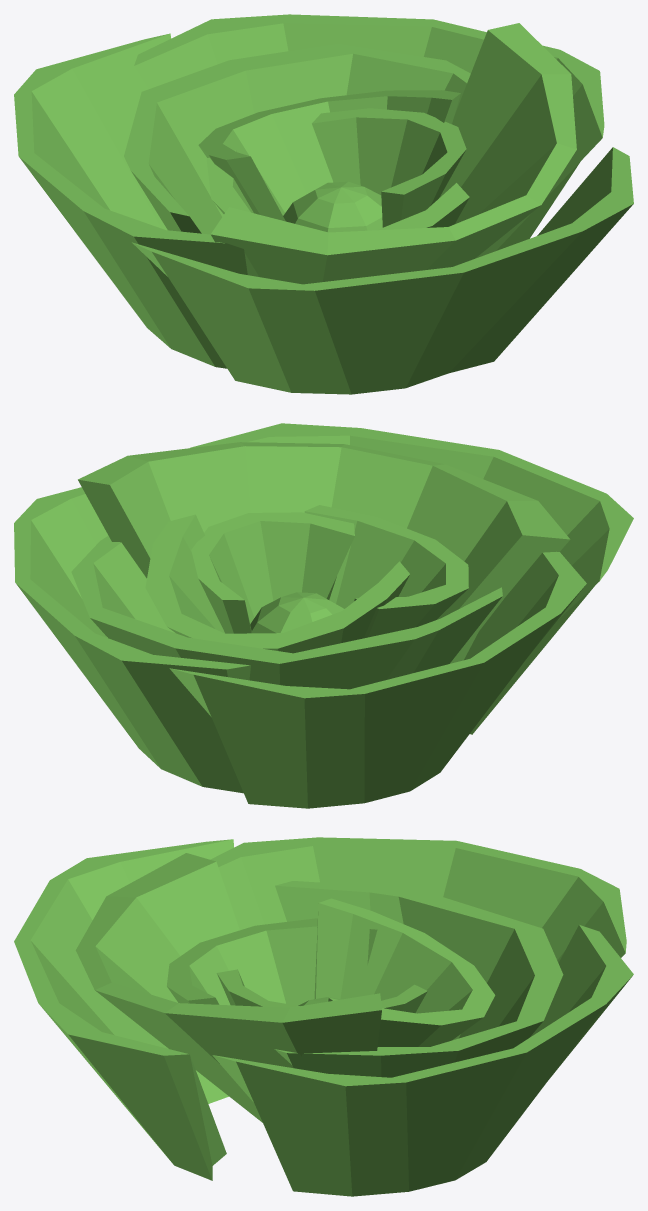
File: O_Clutter_VeggyCabbage_1.fbx
The picture shows the model from 3 angles, top to bottom: view 1: azimuth 30°, elevation 25°; view 2: azimuth 150°, elevation 25°; view 3: azimuth 270°, elevation 25°; orthographic projection. The views are drawn at different scales.
Parts seen in each view (by area): view 1: pCube18; view 2: pCube18; view 3: pCube18.
Boxes of the visible parts, x1,y1,x2,y2 form: pCube18: (14,14,633,394); pCube18: (14,423,633,808); pCube18: (14,837,633,1196).
Bounding box in the file's own units: 1.03 × 0.4377 × 1.08.
